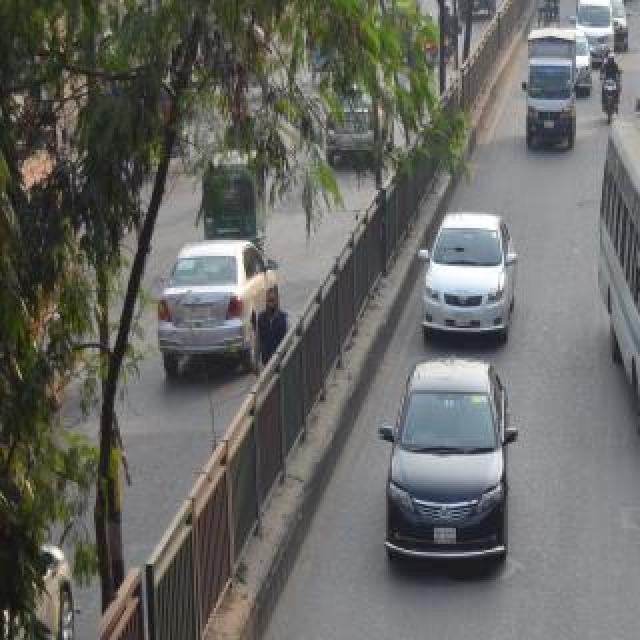bus: (606, 178, 640, 460)
car: (379, 371, 527, 589), (148, 221, 316, 359), (409, 196, 521, 354), (0, 524, 100, 640), (326, 89, 402, 171)
motorbike: (599, 52, 619, 122)
van: (524, 28, 574, 140), (583, 0, 617, 68)
